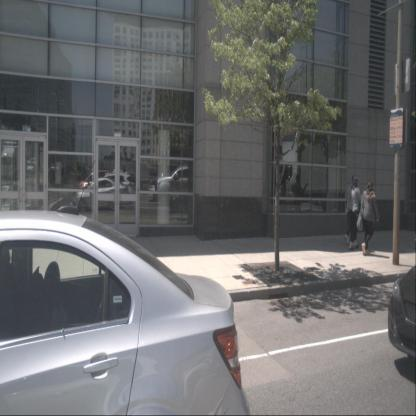human-pedestrian-adult: (356, 180, 379, 256), (348, 176, 363, 250), (345, 176, 359, 246), (292, 175, 309, 225), (279, 173, 289, 228)
vehicle-car: (0, 210, 251, 415), (73, 177, 129, 212), (167, 182, 214, 215), (86, 173, 136, 204), (78, 169, 115, 194), (26, 160, 38, 175)
vehicle-truck: (266, 140, 347, 212), (156, 165, 210, 206), (0, 146, 17, 181)
